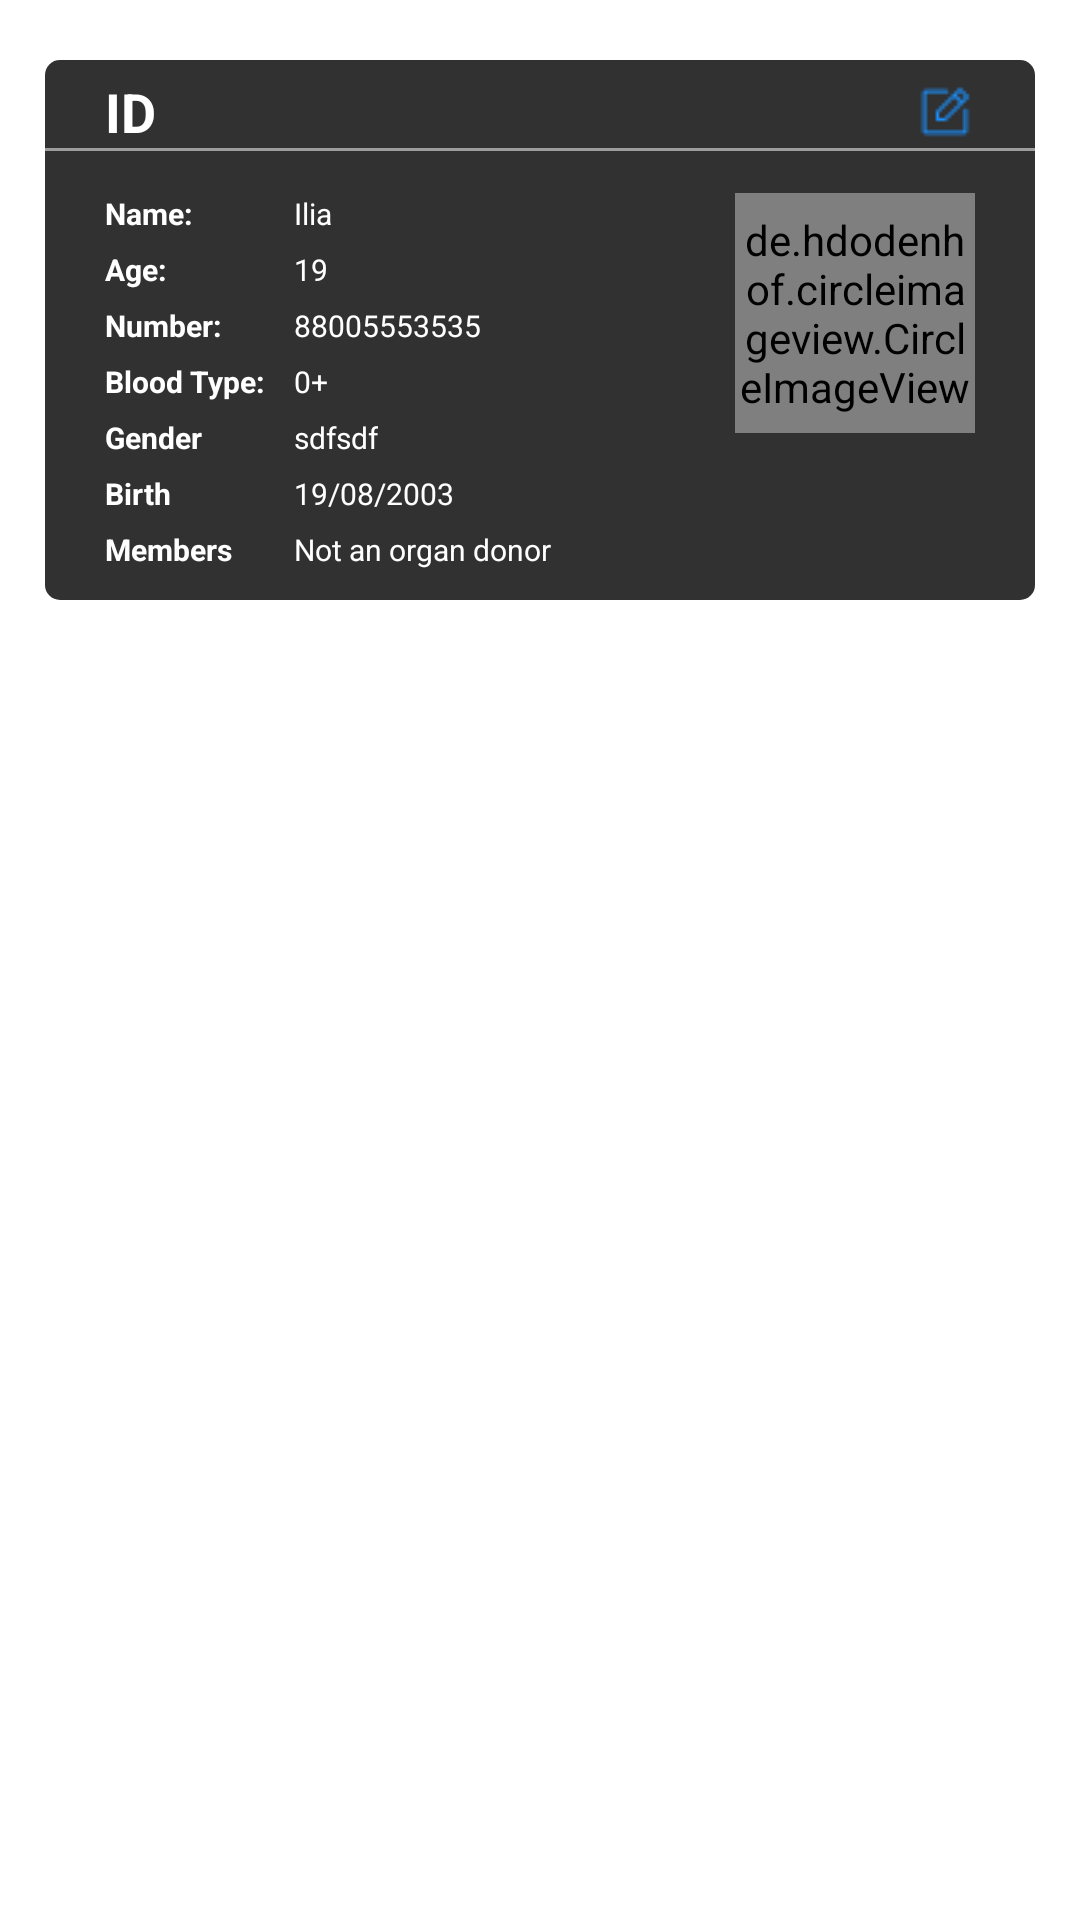

Locate icon controls on the screen. Image size 1080*1920, boxes as (x1, y1, x2, y2).
note pencil: (920, 87, 970, 137)
